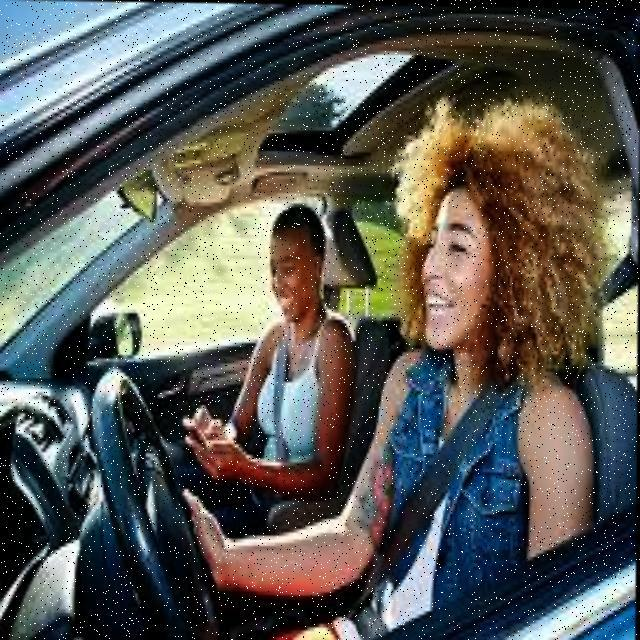seatbelt: (368, 366, 531, 601), (250, 309, 342, 483)
